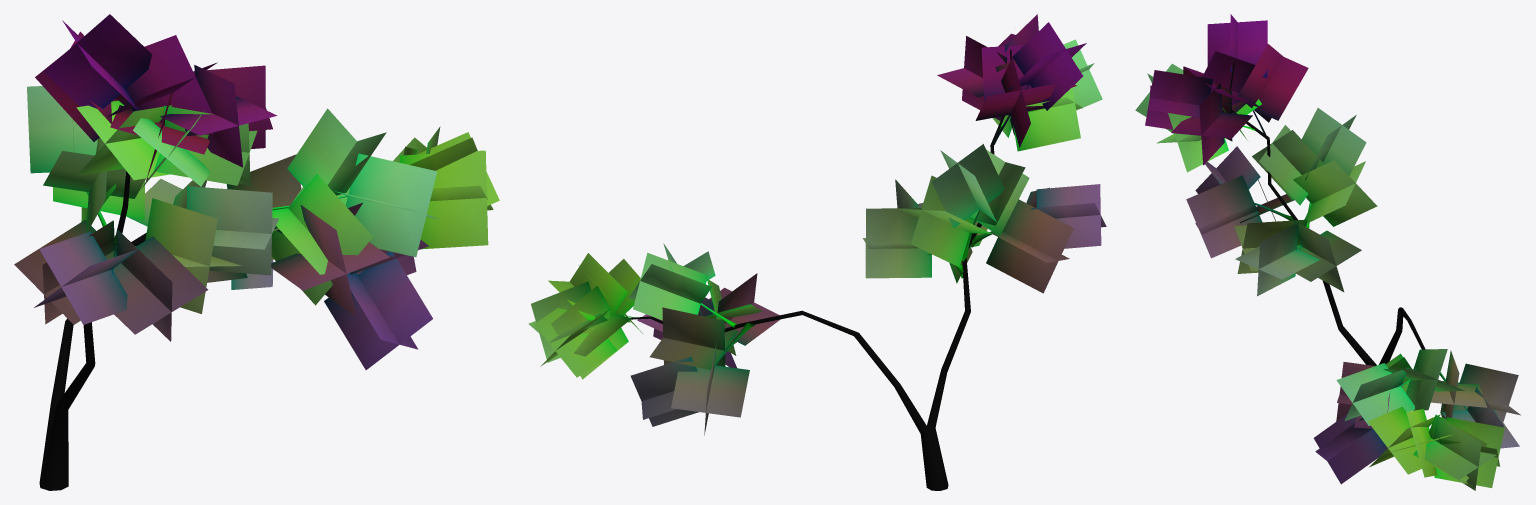
Rendered from URP_P5_Tree_8_LOD_3.fbx.
3 views of the same model, side by side, from view 1: azimuth 30°, elevation 25°; view 2: azimuth 150°, elevation 25°; view 3: azimuth 270°, elevation 25° (orthographic). The views are drawn at different scales.
Visible parts, largest first — view 1: Tree_8_LOD_3; view 2: Tree_8_LOD_3; view 3: Tree_8_LOD_3.
Boxes of the visible parts, x1,y1,x2,y2 form: Tree_8_LOD_3: [14, 14, 499, 490]; Tree_8_LOD_3: [528, 14, 1106, 490]; Tree_8_LOD_3: [1135, 14, 1520, 490].
Size of the model in its own units: 623 by 549 by 497.
